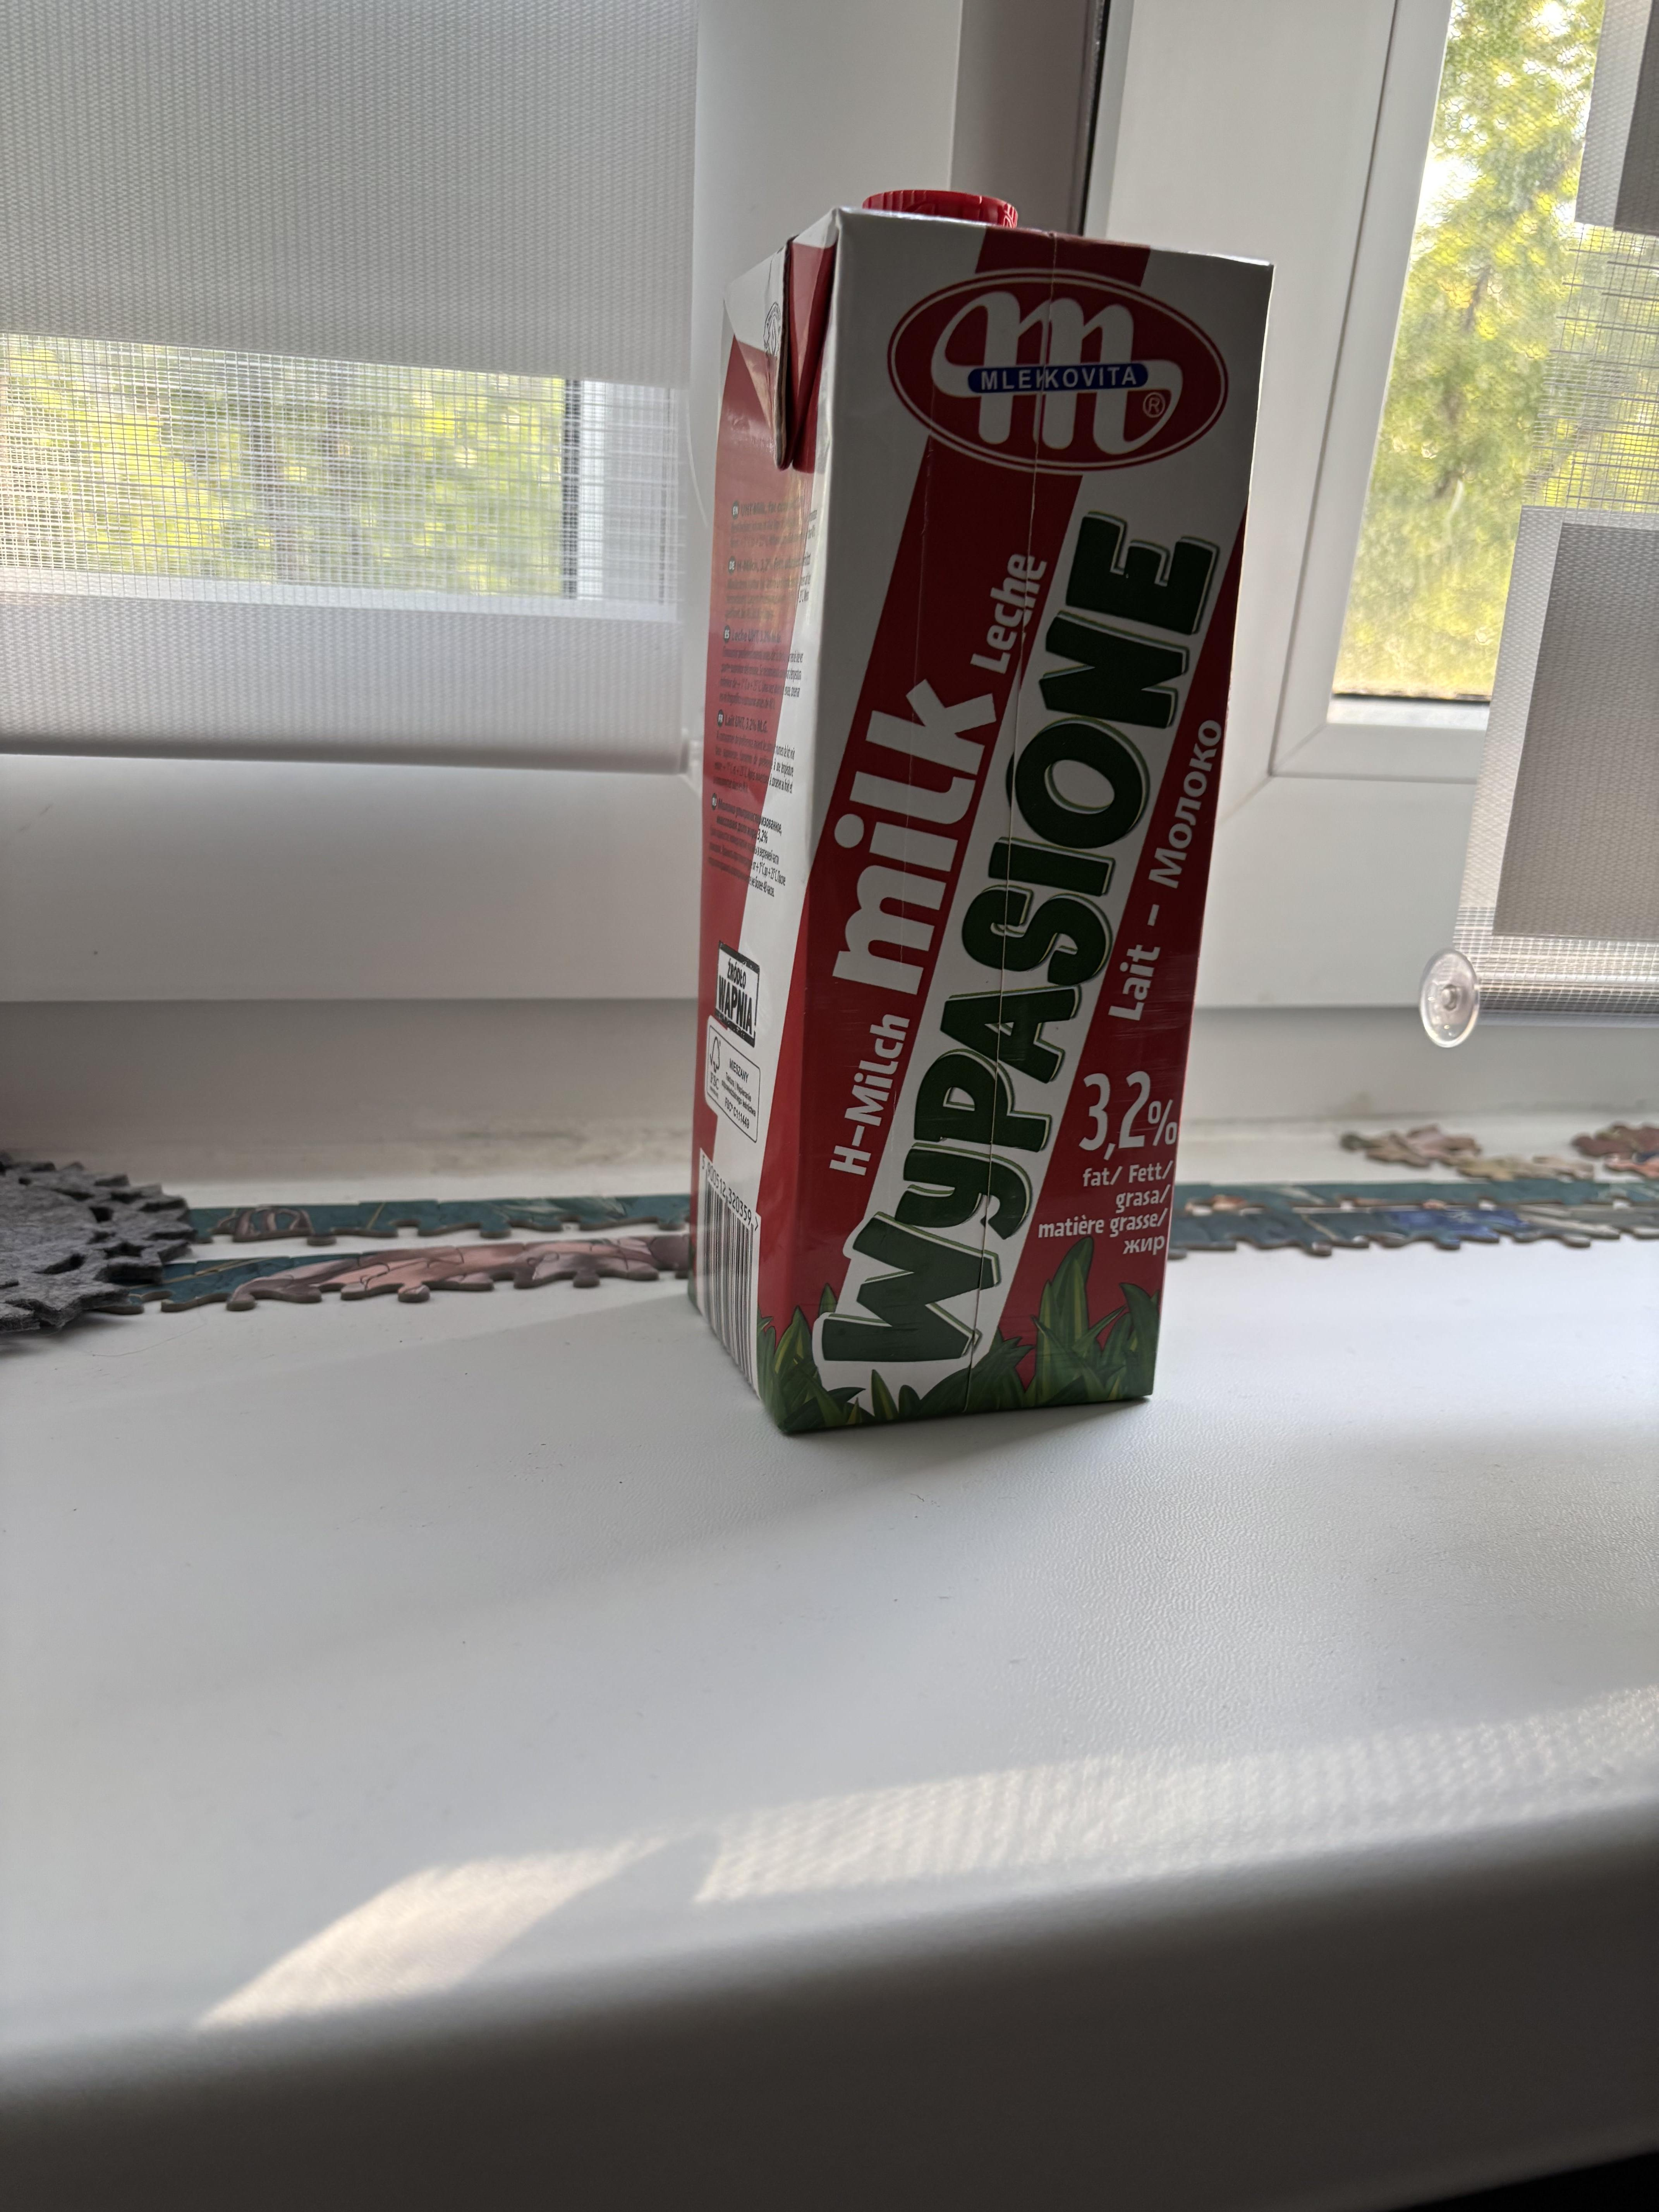Milk: (730, 256, 1161, 1399)
